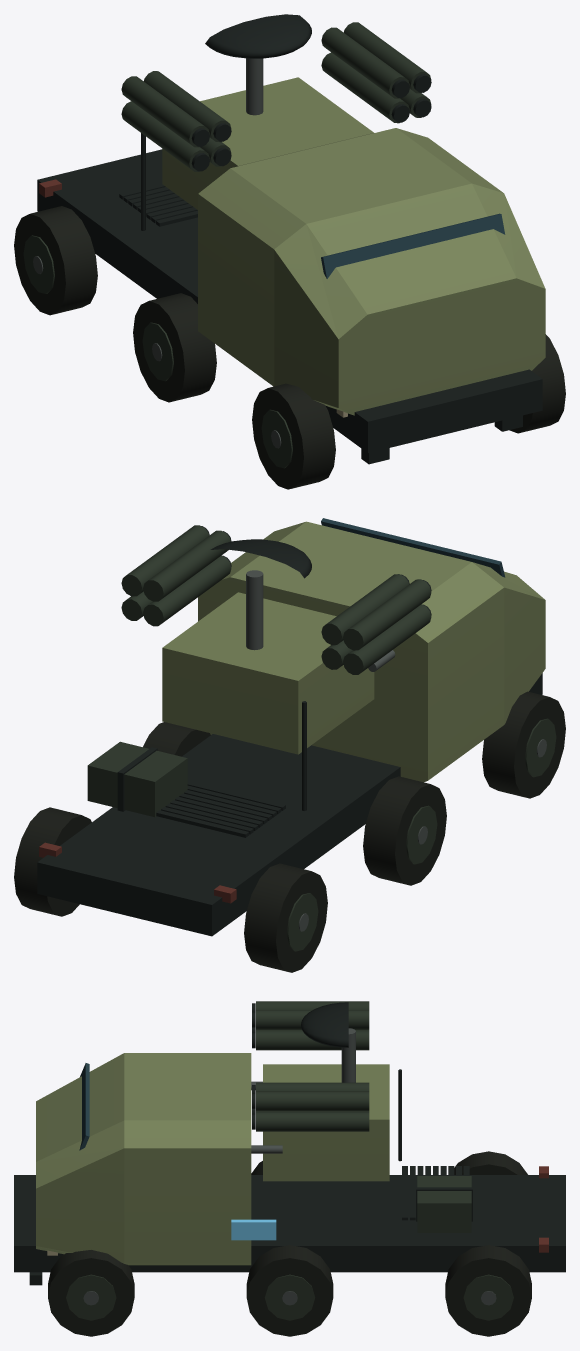
Rendered from spaa.glb.
The picture shows the model from 3 angles, top to bottom: view 1: azimuth 30°, elevation 25°; view 2: azimuth 150°, elevation 25°; view 3: azimuth 270°, elevation 25°; orthographic projection. The views are drawn at different scales.
Parts seen in each view (by area): view 1: armor (×2), equipment (×4), glass; view 2: equipment (×4), armor (×2), glass; view 3: equipment (×4), armor (×2), marking, glass.
Boxes of the visible parts, x1,y1,x2,y2 form: armor (×2): (162,77,545,415); equipment (×4): (14,14,565,489); glass: (321,213,505,278); equipment (×4): (14,525,565,972); armor (×2): (162,521,545,782); glass: (321,518,505,577); equipment (×4): (14,1001,565,1336); armor (×2): (36,1053,389,1265); marking: (231,1219,276,1240); glass: (79,1063,89,1150).
Size of the model in its own units: 2.84 by 3.27 by 6.1.
